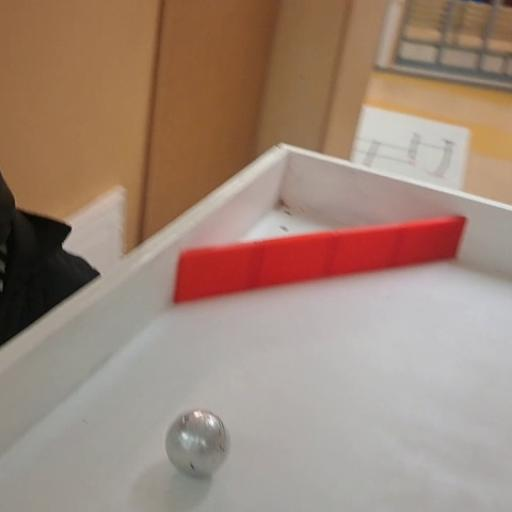alive: (164, 408, 232, 479)
